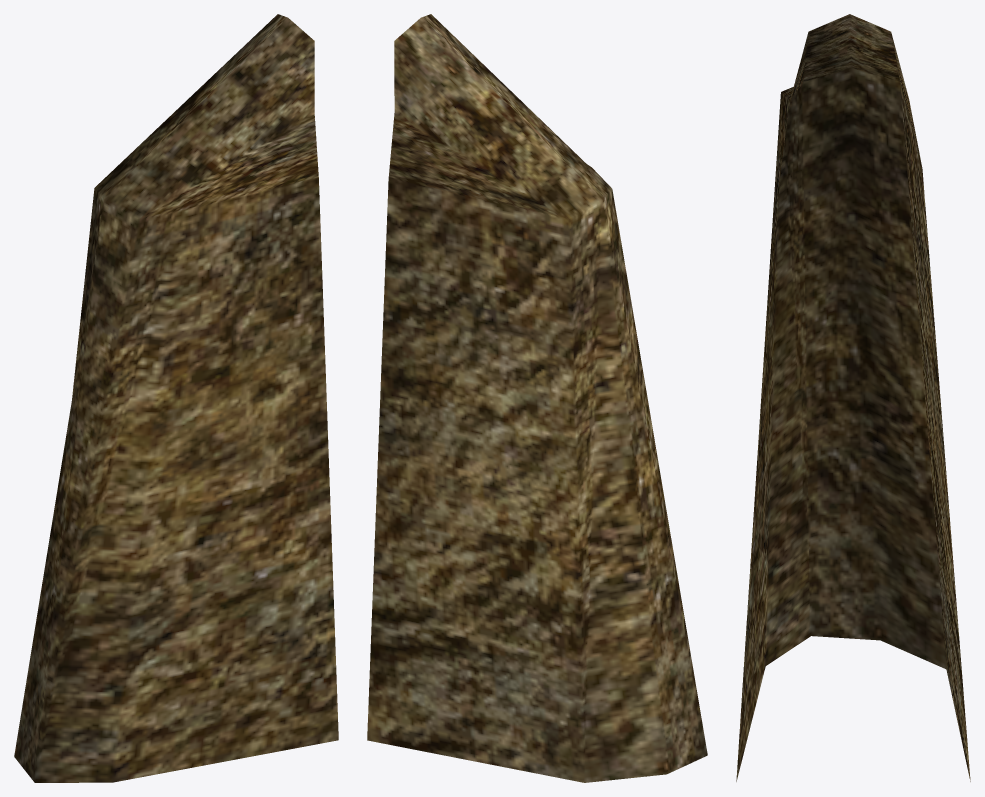
Rendered from hrz31.glb.
The picture shows the model from 3 angles, left to right: view 1: azimuth 30°, elevation 25°; view 2: azimuth 150°, elevation 25°; view 3: azimuth 270°, elevation 25°; orthographic projection. The views are drawn at different scales.
Visible parts, largest first — view 1: hrz31-col; view 2: hrz31-col; view 3: hrz31-col.
Boxes of the visible parts, x1,y1,x2,y2 form: hrz31-col: (14, 14, 338, 782); hrz31-col: (367, 14, 707, 782); hrz31-col: (736, 14, 970, 781).
Bounding box in the file's own units: 2.13 × 5.01 × 1.38.
Materials: 1 (1 with a texture image).
